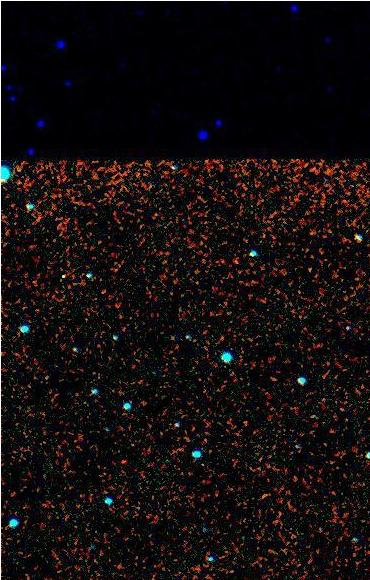star: (108, 448, 138, 478)
